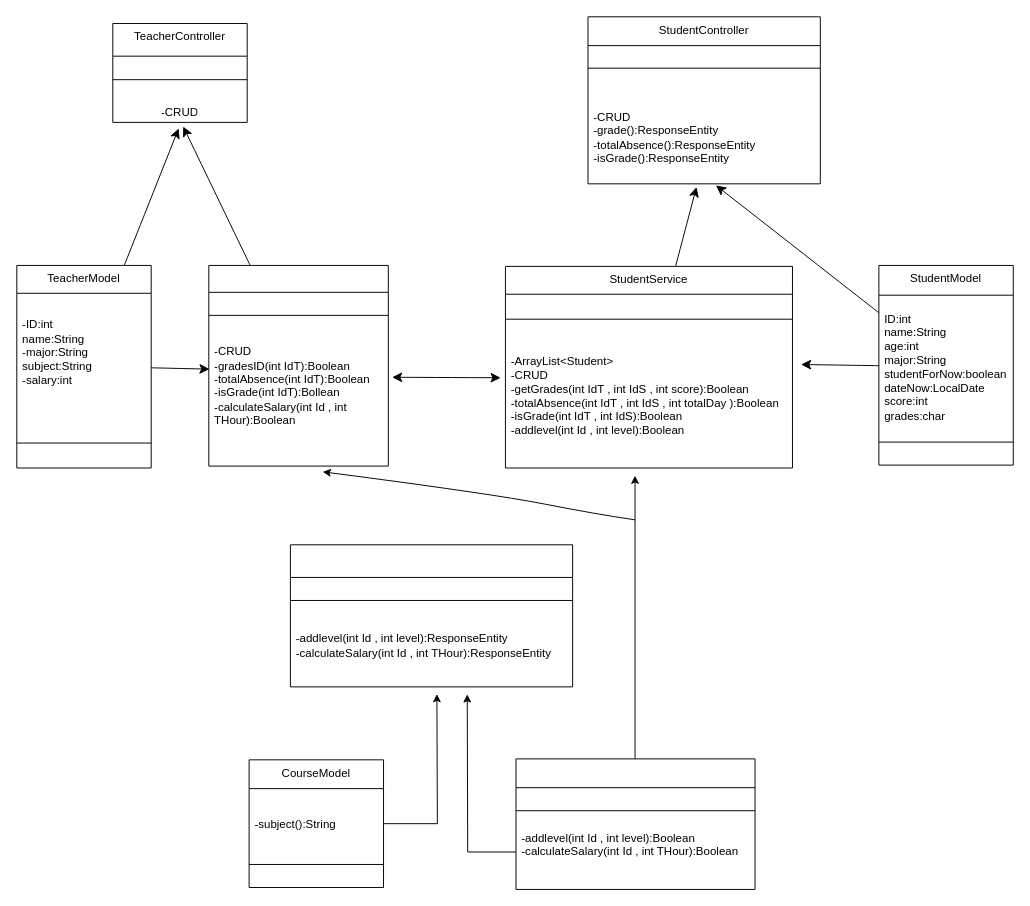
Image size: 1030x906. Some labels were removed from this diagram. The shapes that lost their labels are listed below. From the top down, each one's box as (x1, y1, x2, y2) in pixels, then its label:
(208, 264, 388, 466): TeacherService
(289, 544, 573, 687): CourseController
(515, 758, 755, 889): CourseService
